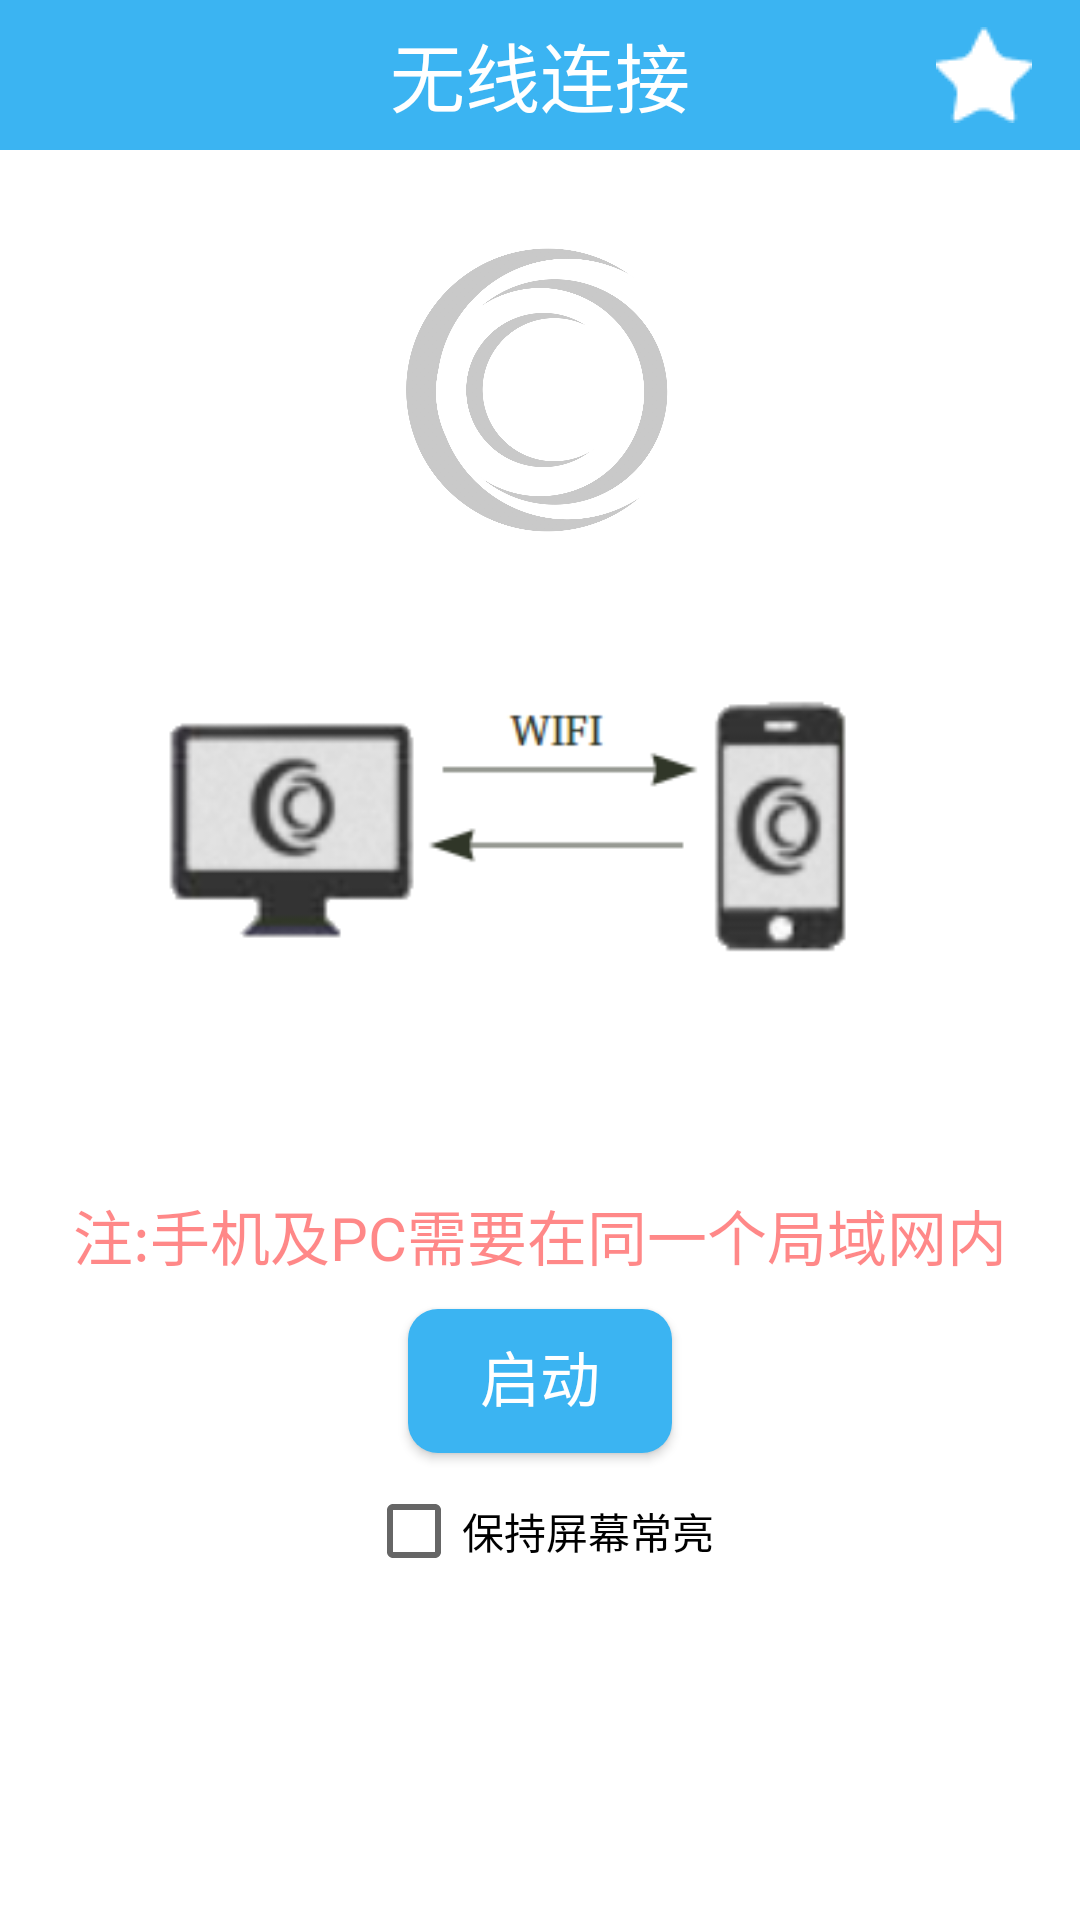

Screen size 1080×1920. Icon name, then its box in pixels as (x1, y1, x2, y2):
star: (936, 27, 1032, 123)
